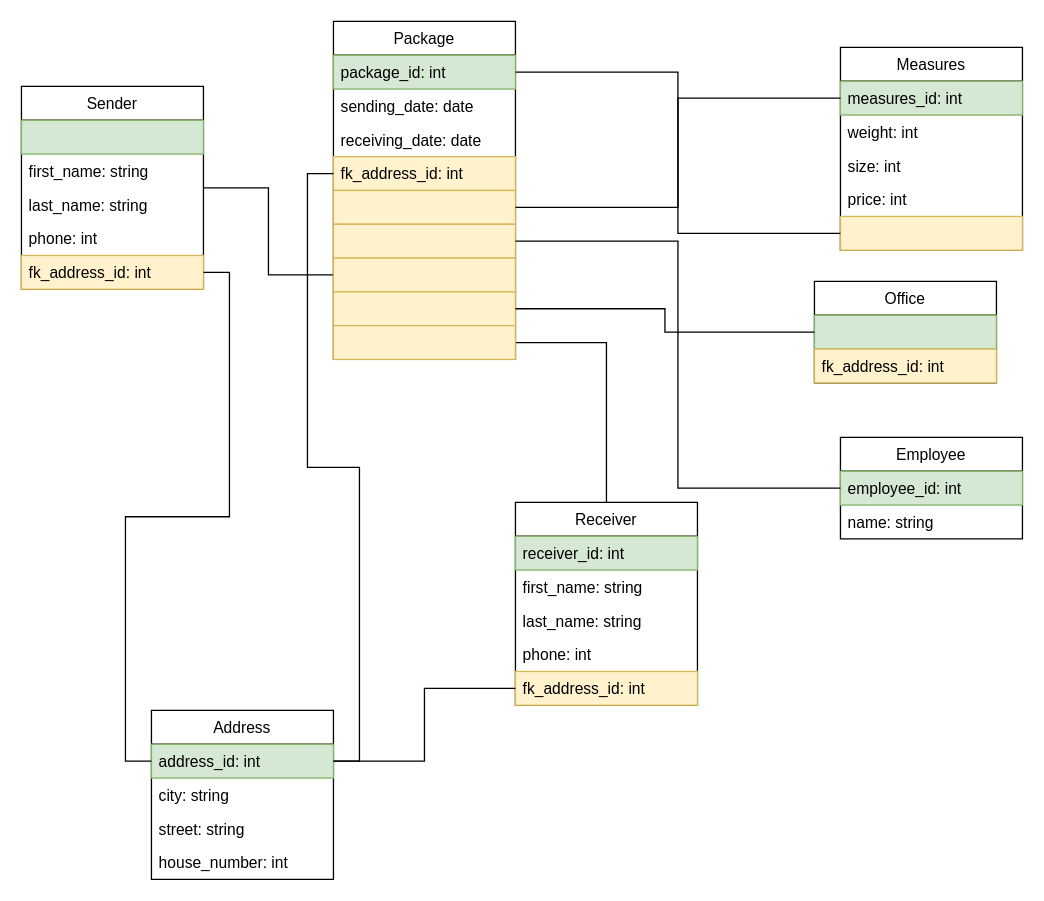
Image size: 1044x901. Some labels were removed from this diagram. Here are the shapes that lost their labels. From the top down, the box of each, then its label:
(20, 119, 203, 154): sender_id: int
(332, 189, 515, 224): fk_measures_id: int
(332, 223, 515, 258): fk_employee: int
(839, 215, 1022, 250): fk_package_id: int
(332, 257, 515, 292): fk_sender_id: int
(332, 291, 515, 326): fk_office_id: int
(332, 324, 515, 359): fk_receiver_id: int
(813, 314, 996, 349): office_id: int
